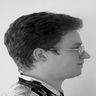ear: (30, 43, 53, 66)
